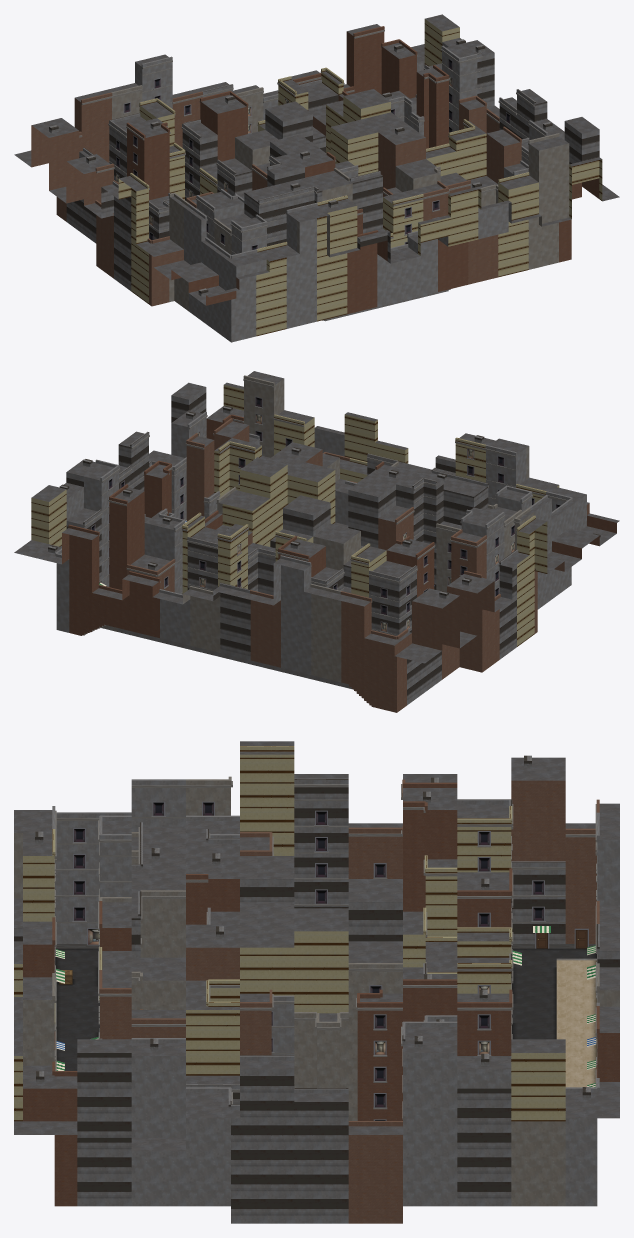
The model's file is downtown_v3.gltf.
The picture shows the model from 3 angles, top to bottom: view 1: azimuth 30°, elevation 25°; view 2: azimuth 150°, elevation 25°; view 3: azimuth 270°, elevation 25°; orthographic projection. The views are drawn at different scales.
Parts seen in each view (by area): view 1: Quarter, Detail, Windows; view 2: Quarter, Detail, Windows; view 3: Quarter, Detail, Windows, Shadows.
Part boxes in pixels (bbox=[...]): Quarter: bbox=[14, 14, 619, 342]; Detail: bbox=[49, 26, 571, 341]; Windows: bbox=[115, 58, 510, 250]; Quarter: bbox=[14, 371, 619, 712]; Detail: bbox=[48, 375, 600, 639]; Windows: bbox=[91, 396, 560, 633]; Quarter: bbox=[14, 741, 619, 1223]; Detail: bbox=[35, 746, 599, 1223]; Windows: bbox=[54, 801, 597, 1120]; Shadows: bbox=[55, 948, 596, 1082].
Size of the model in its own units: 81.5 by 27.5 by 67.
25 materials, 24 textured.
